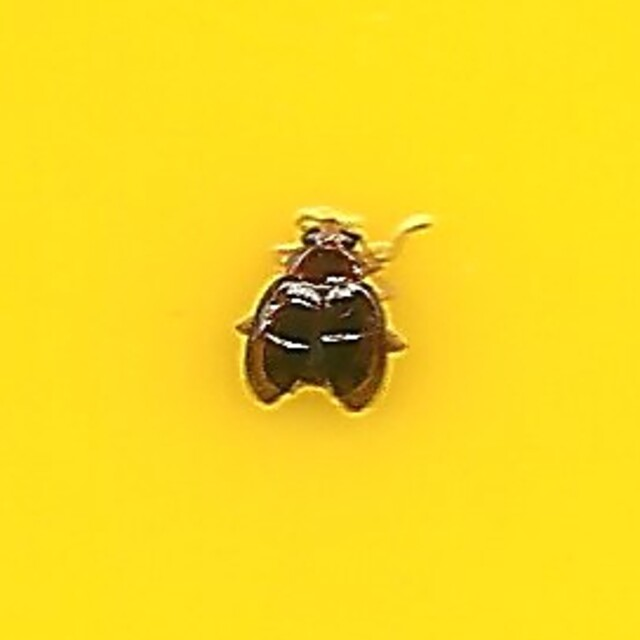Coleoptera: (235, 215, 405, 425)
